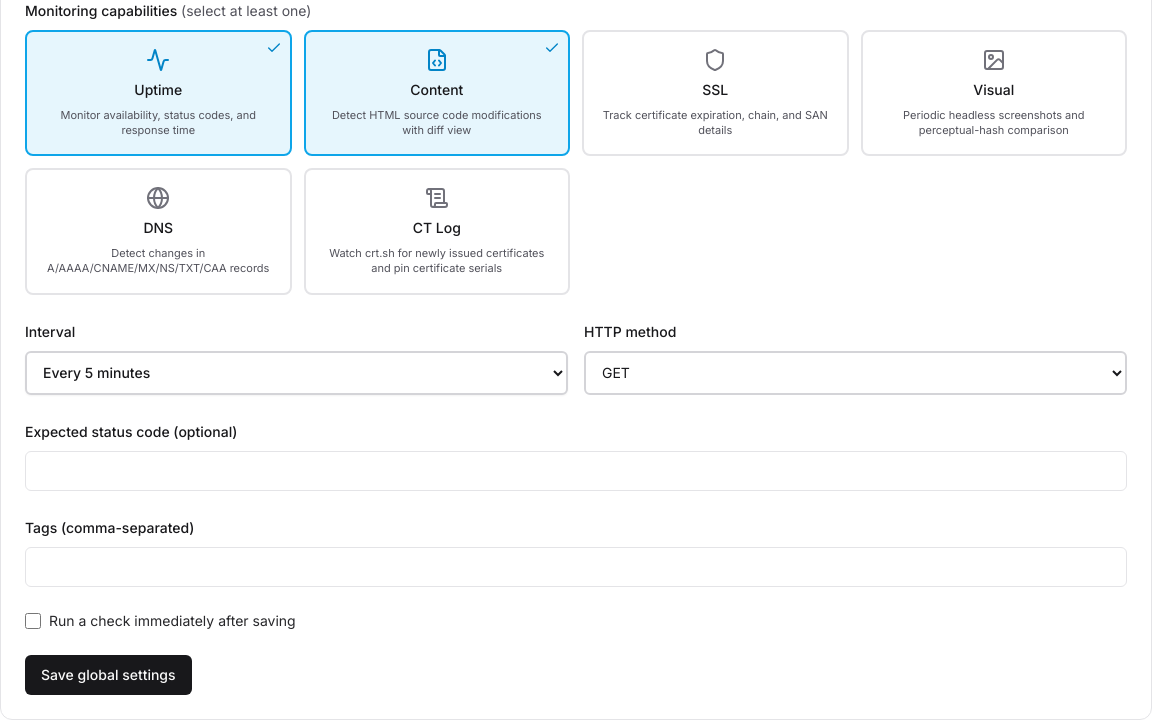
Test: monitor settings forms › shows backend validation details on global settings save failure
(page scrolled)
What coordinates should you click on to do the following:
click the button "Save global settings"
I would click on:
 (108, 674)
Its box is [25,654,192,694].
(page scrolled)
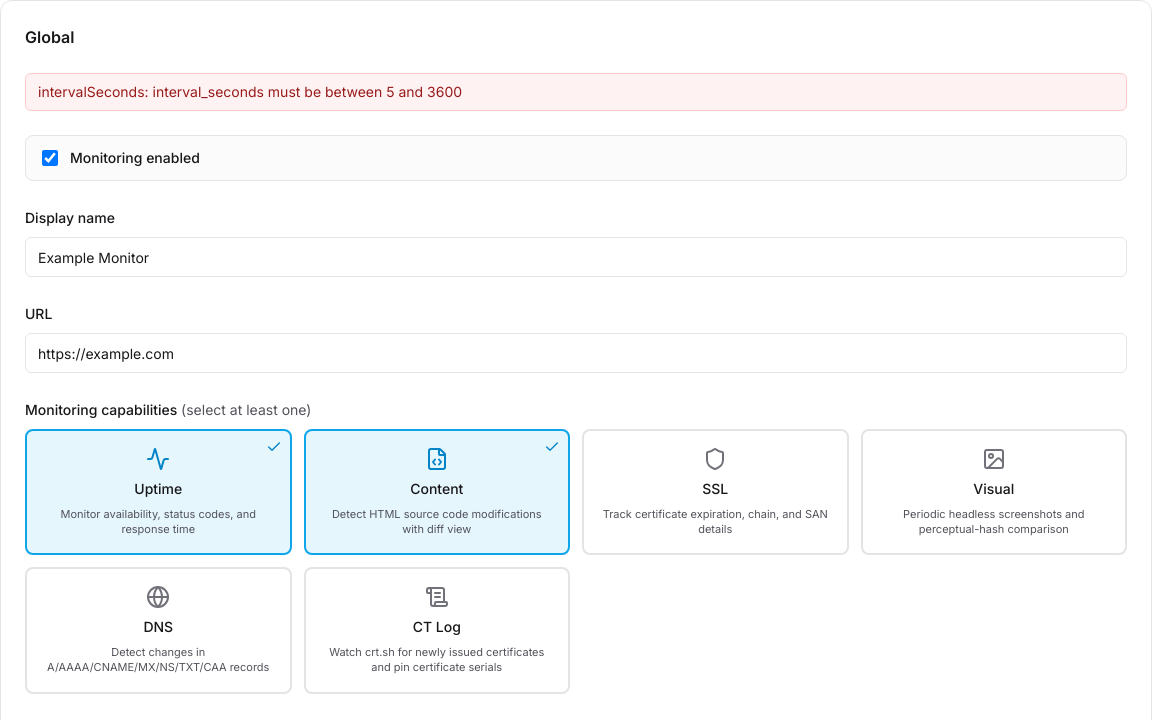
Now the text "intervalSeconds: interval_seconds must be between 5 and 3600" is shown, box [25,73,1127,111]
